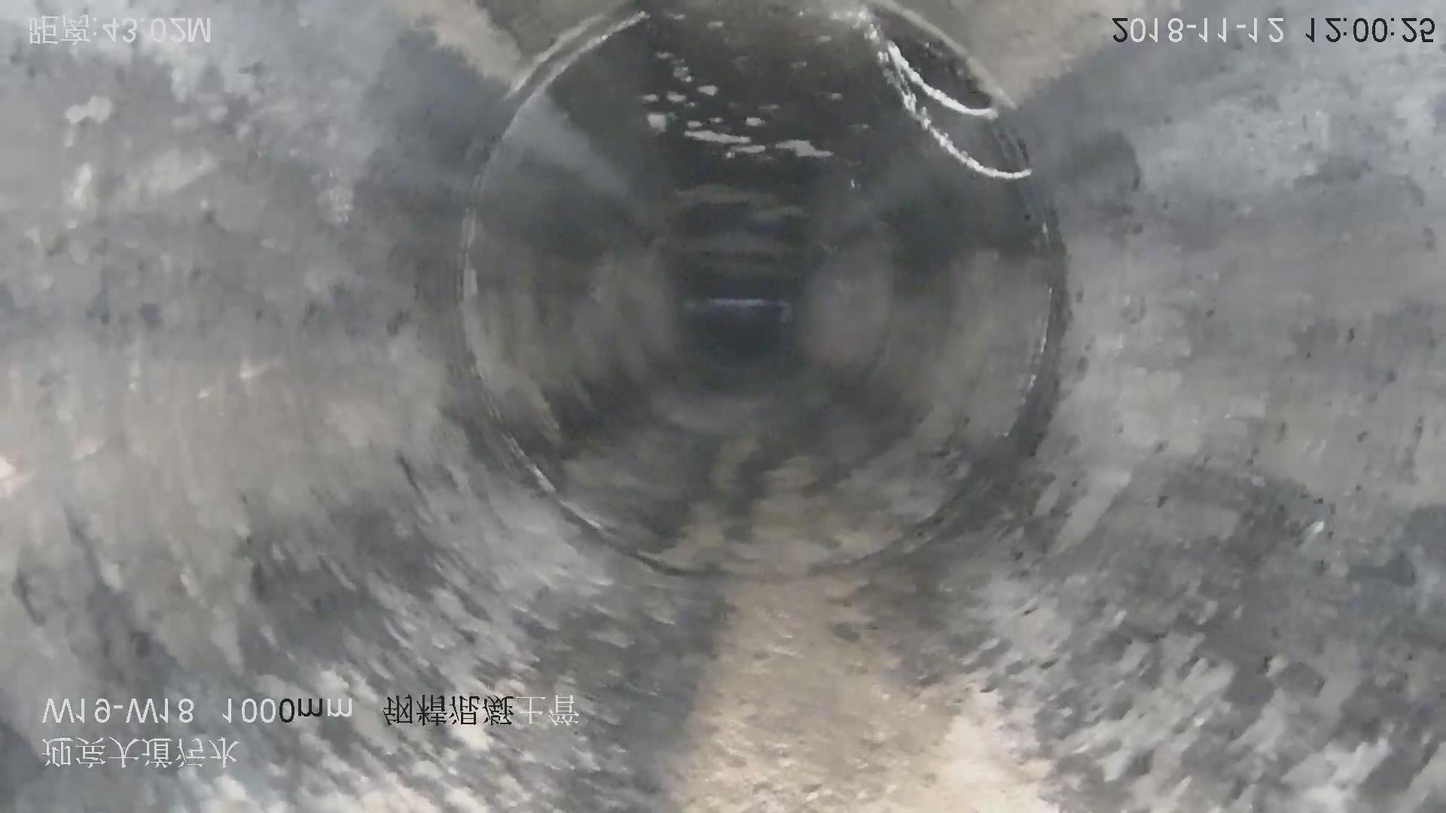SL: (837, 29, 1069, 188)
